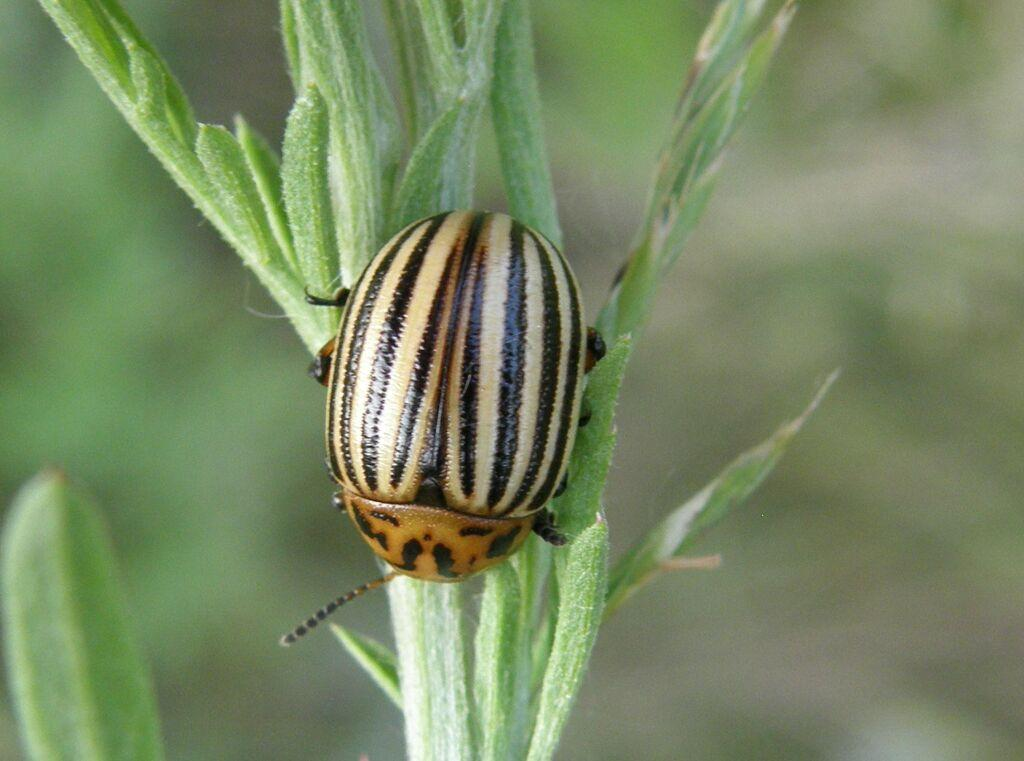potato_beetle: (224, 146, 683, 684)
